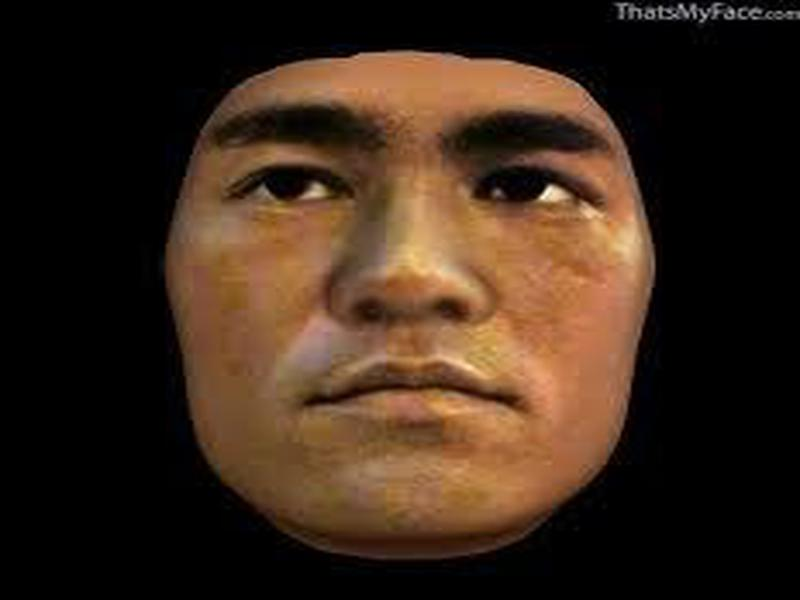without_mask: (166, 48, 654, 560)
